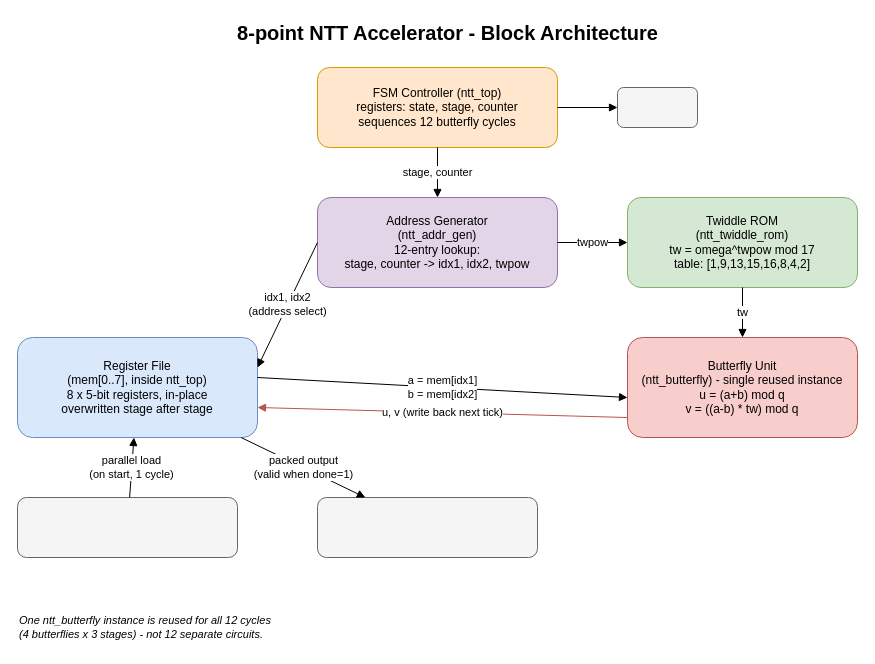
Some shapes in this 875 by 664 pixel diagram are drawn without their labels. Each missing label, with the centre of its shape:
"done" goes at point 657,107.
"input_bus[39:0] (8 packed 5-bit values)" goes at point 127,527.
"output_bus[39:0] valid when done=1" goes at point 427,527.
